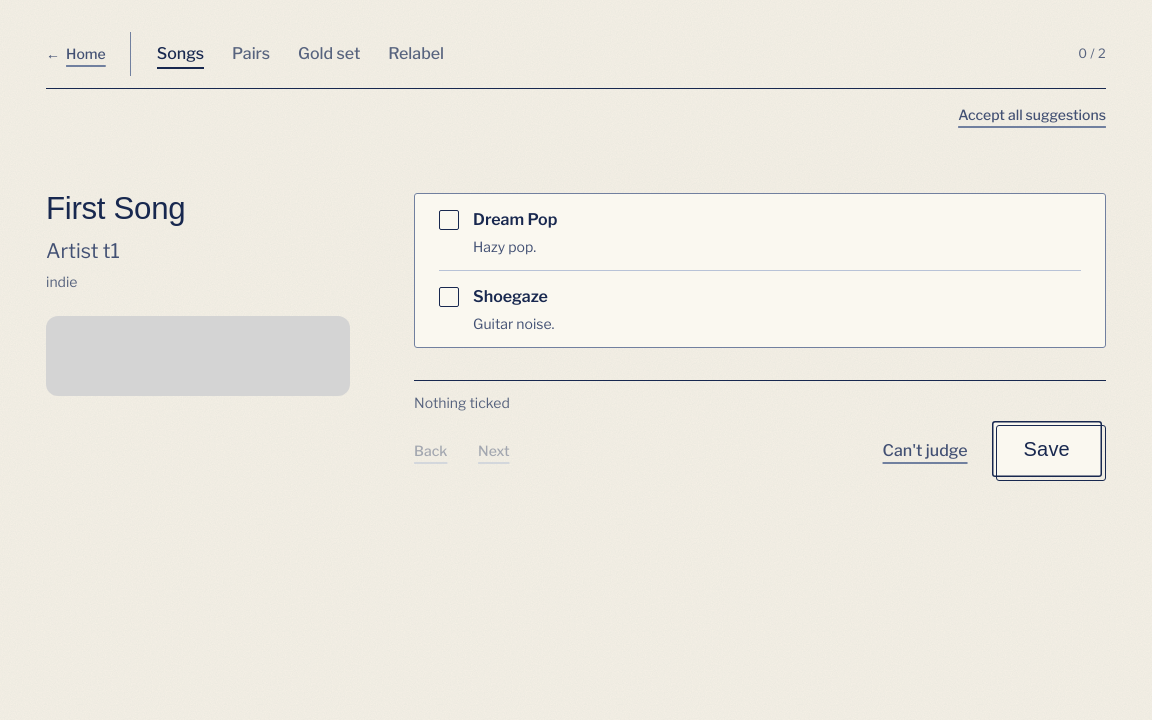
Test case: bulk accept gating › counts only the items it can actually write
What coordinates should you click on to do the following:
click the button "Accept all suggestions"
I would click on:
 (1032, 115)
Its box is left=958, top=93, right=1106, bottom=137.
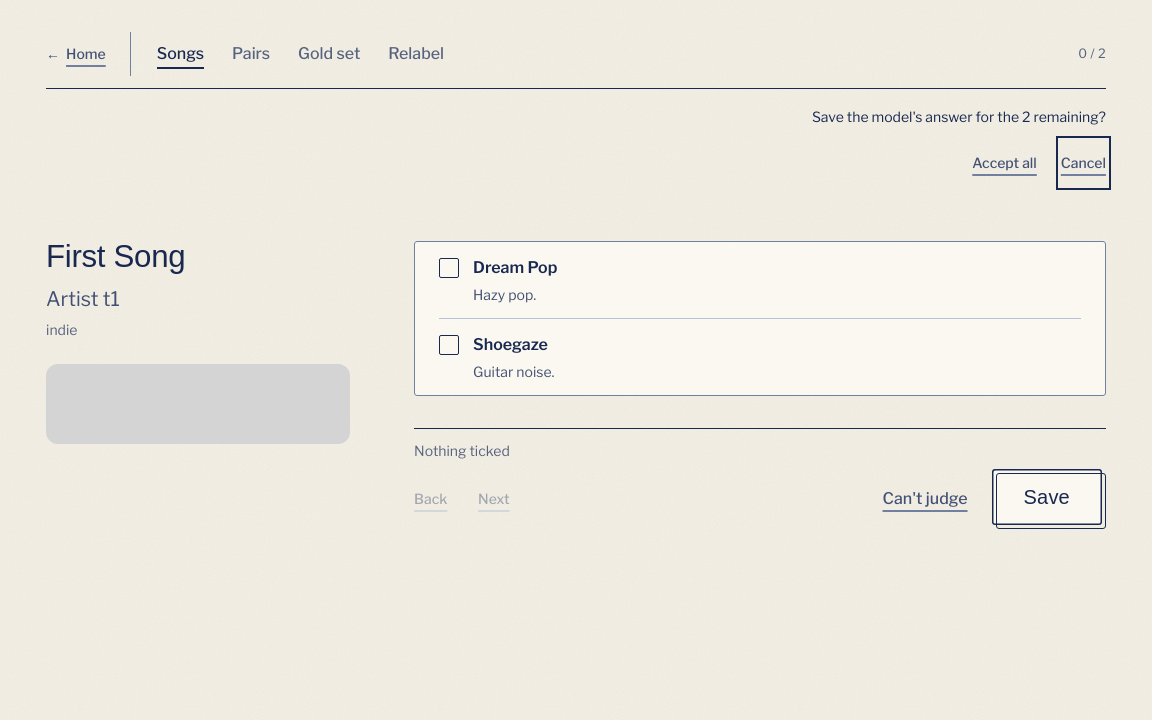
Expected: the text "Save the model's answer for the 2 remaining?" is shown, left=812, top=108, right=1106, bottom=125
